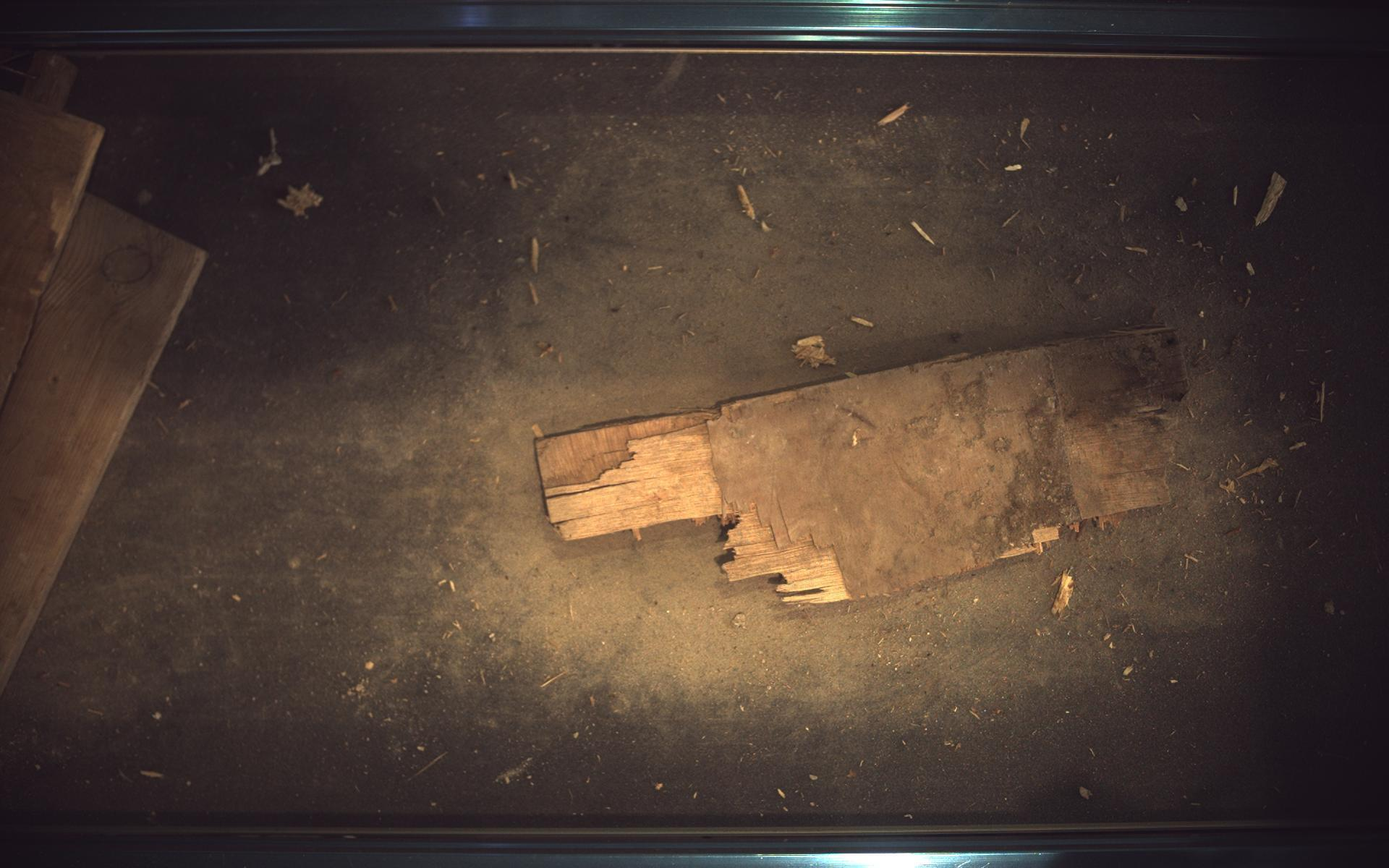wood: (536, 329, 1189, 605)
